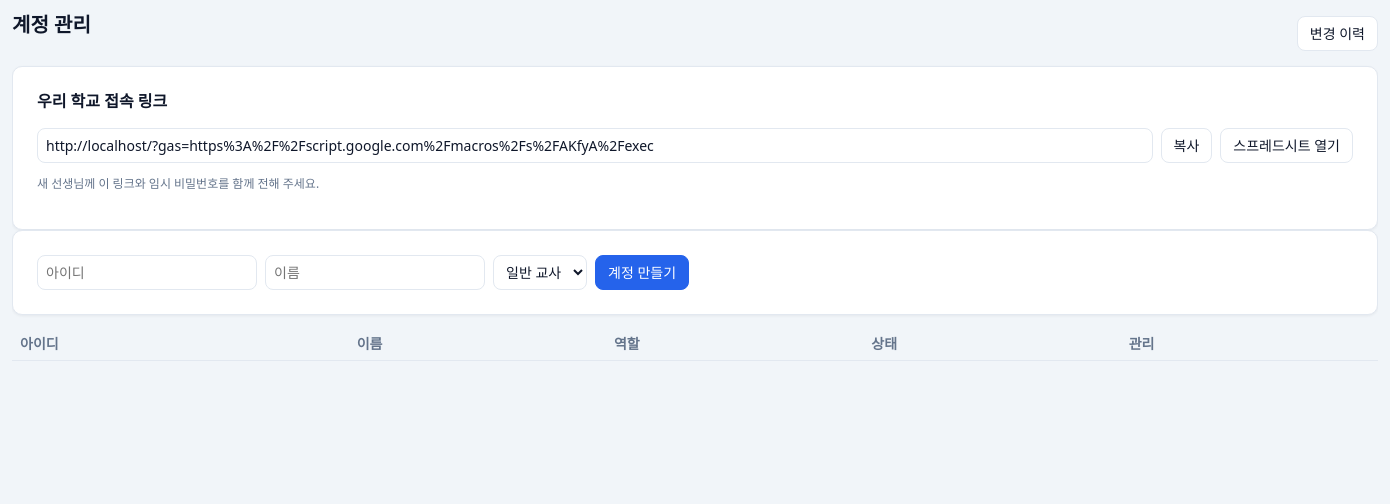
school link and spreadsheet › copy puts the link on the clipboard
Click the button "복사" at (1186,145), box [1160, 128, 1212, 163]
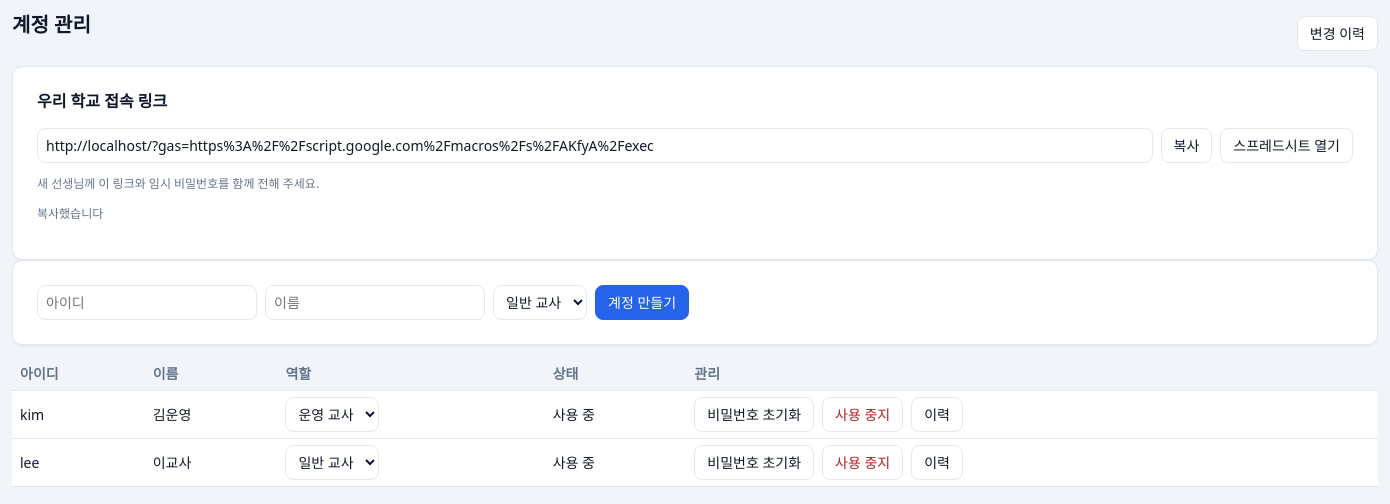
expect the text "복사했습니다" is shown: met, box [37, 205, 103, 222]
